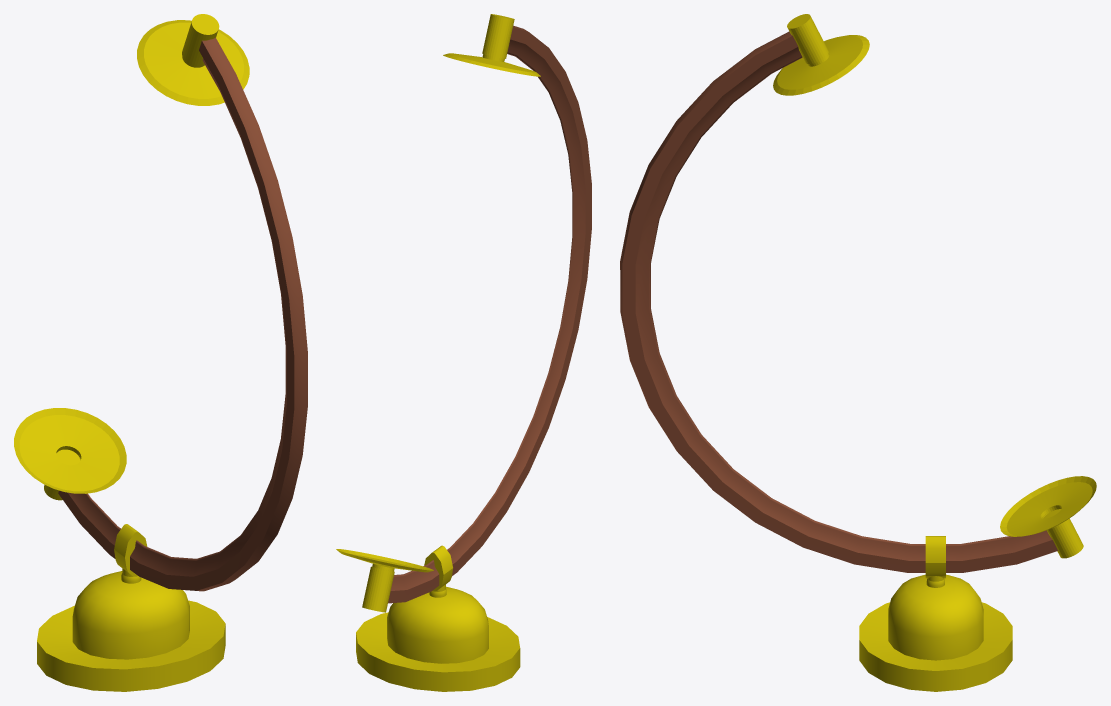
Rendered from soporteGlobo.obj.
3 renders of one model, left to right at view 1: azimuth 30°, elevation 25°; view 2: azimuth 150°, elevation 25°; view 3: azimuth 270°, elevation 25°, orthographic. The views are drawn at different scales.
Visible parts, largest first — view 1: soporteGlobo1:polySurface648; view 2: soporteGlobo1:polySurface648; view 3: soporteGlobo1:polySurface648.
Part boxes in pixels (x1,y1,x2,y2): soporteGlobo1:polySurface648: (14,14,307,691); soporteGlobo1:polySurface648: (336,14,591,691); soporteGlobo1:polySurface648: (620,14,1096,691).
Bounding box in the file's own units: 0.0429 × 0.1663 × 0.1127.
Materials: 3 (2 with a texture image).
